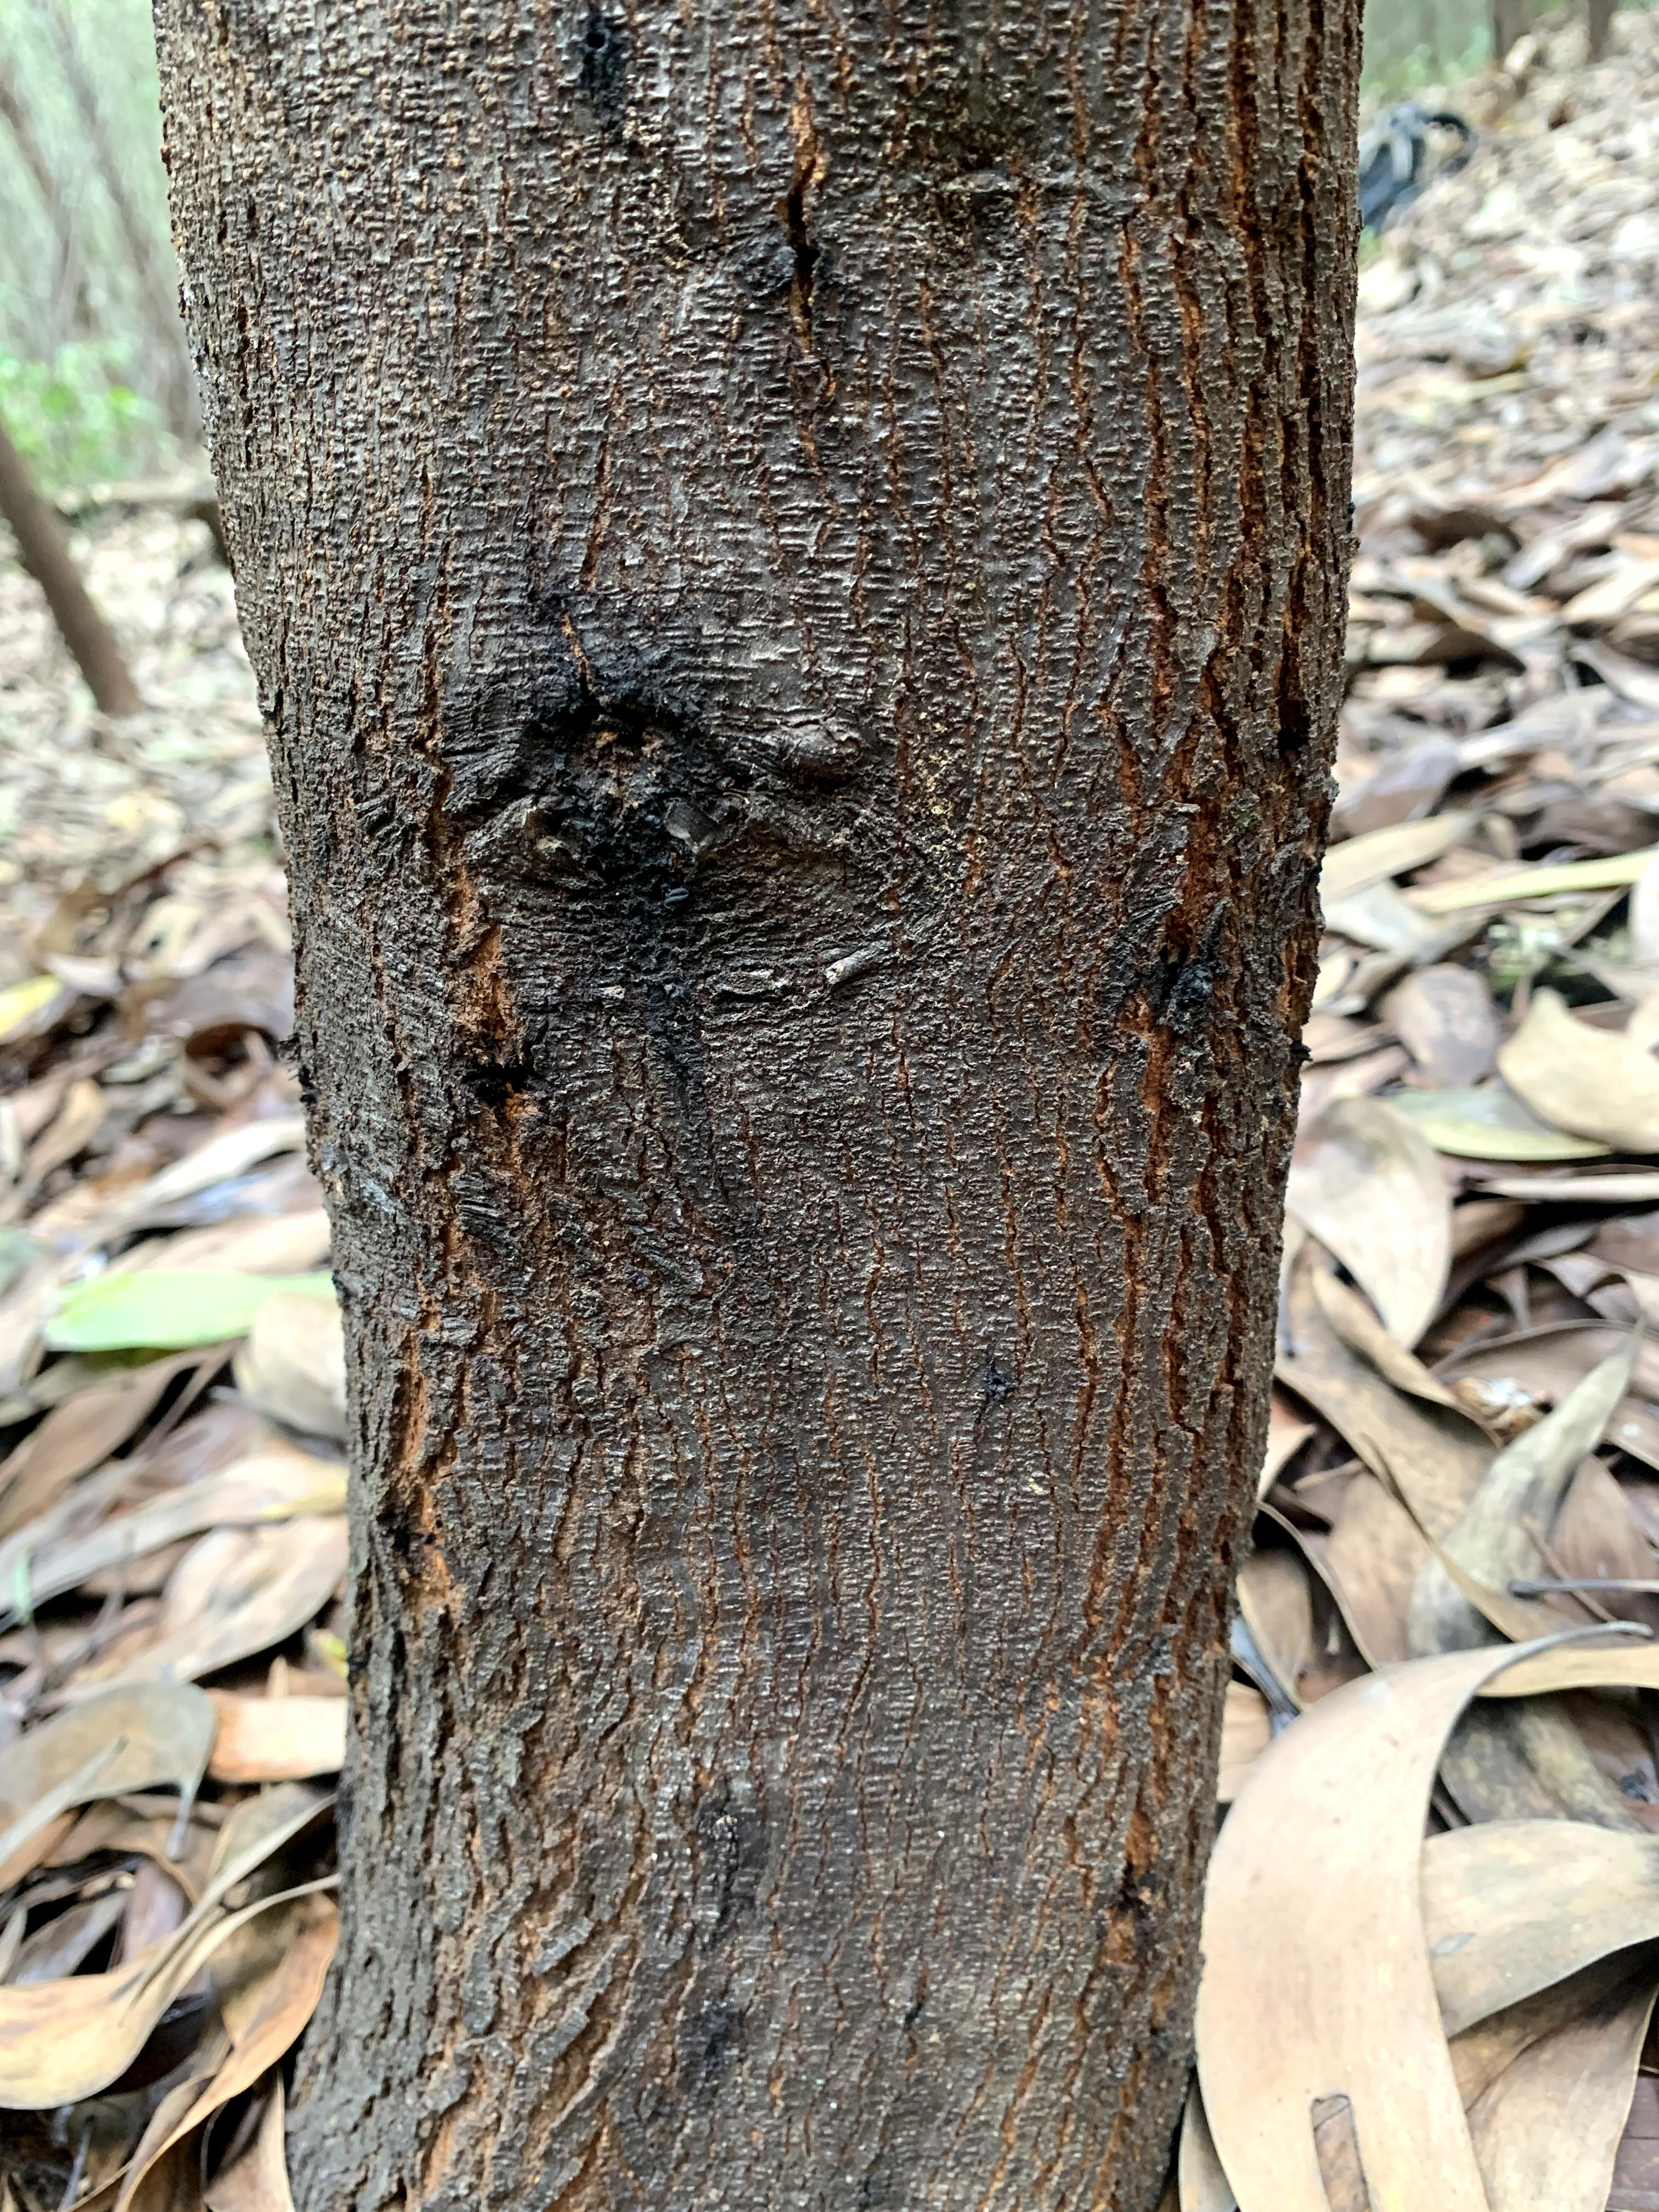Stem Borer: (474, 570, 796, 928), (746, 111, 882, 409), (436, 1022, 573, 1157)
